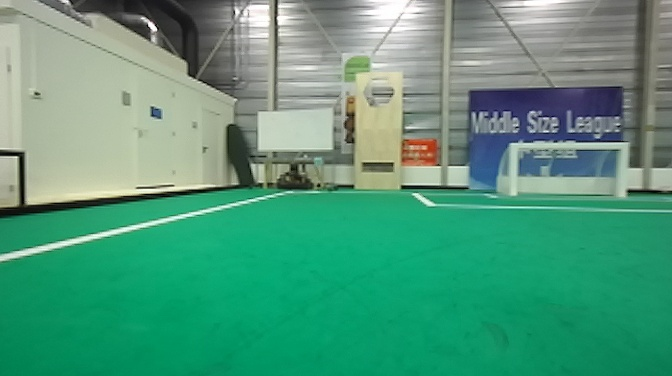goalpost: (616, 139, 633, 200), (504, 140, 520, 198)
